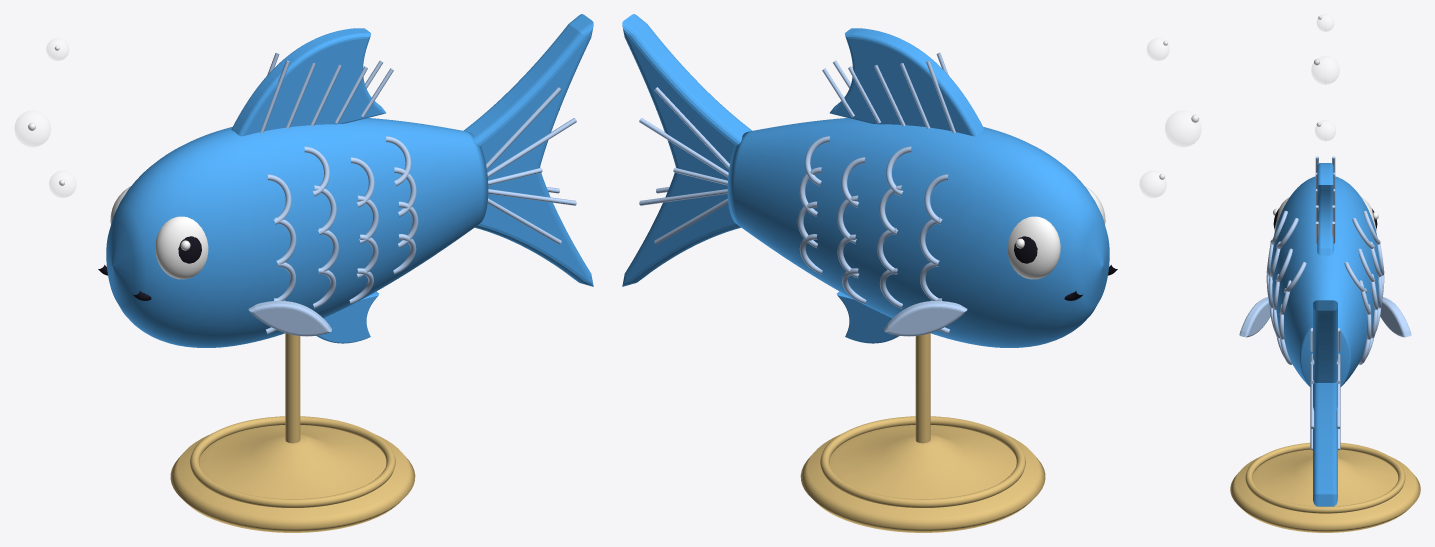
The model's file is lab-irc-ichthy.glb.
3 views of the same model, side by side, from view 1: azimuth 30°, elevation 25°; view 2: azimuth 150°, elevation 25°; view 3: azimuth 270°, elevation 25° (orthographic). The views are drawn at different scales.
Visible parts, largest first — view 1: corpo, basamento, coda, pinna_dorsale, onda, occhio_dx_bianco, pinna_pettorale_dx, supporto, pinna_ventrale, bolla_2; view 2: corpo, basamento, coda, pinna_dorsale, onda, occhio_sx_bianco, pinna_pettorale_sx, supporto, pinna_ventrale, bolla_2; view 3: corpo, basamento, coda, onda, pinna_dorsale, pinna_pettorale_sx, pinna_pettorale_dx, bolla_2, bolla_1.
Boxes of the visible parts, bbox=[...] form: corpo: bbox=[106, 118, 488, 347]; basamento: bbox=[170, 425, 415, 532]; coda: bbox=[463, 14, 593, 286]; pinna_dorsale: bbox=[231, 28, 385, 136]; onda: bbox=[190, 416, 395, 507]; occhio_dx_bianco: bbox=[155, 216, 208, 279]; pinna_pettorale_dx: bbox=[248, 301, 331, 336]; supporto: bbox=[285, 333, 300, 443]; pinna_ventrale: bbox=[316, 291, 378, 343]; bolla_2: bbox=[15, 111, 50, 146]; corpo: bbox=[727, 118, 1109, 347]; basamento: bbox=[800, 425, 1045, 532]; coda: bbox=[622, 14, 752, 286]; pinna_dorsale: bbox=[830, 28, 984, 136]; onda: bbox=[820, 416, 1025, 507]; occhio_sx_bianco: bbox=[1007, 216, 1060, 279]; pinna_pettorale_sx: bbox=[884, 301, 967, 336]; supporto: bbox=[915, 333, 930, 443]; pinna_ventrale: bbox=[837, 291, 899, 343]; bolla_2: bbox=[1165, 111, 1200, 146]; corpo: bbox=[1270, 176, 1380, 386]; basamento: bbox=[1230, 449, 1420, 532]; coda: bbox=[1313, 300, 1337, 506]; onda: bbox=[1245, 442, 1405, 513]; pinna_dorsale: bbox=[1317, 163, 1333, 255]; pinna_pettorale_sx: bbox=[1380, 297, 1411, 337]; pinna_pettorale_dx: bbox=[1239, 297, 1270, 337]; bolla_2: bbox=[1311, 56, 1339, 84]; bolla_1: bbox=[1315, 120, 1335, 140].
Size of the model in its own units: 0.5712 by 0.48 by 0.212.
